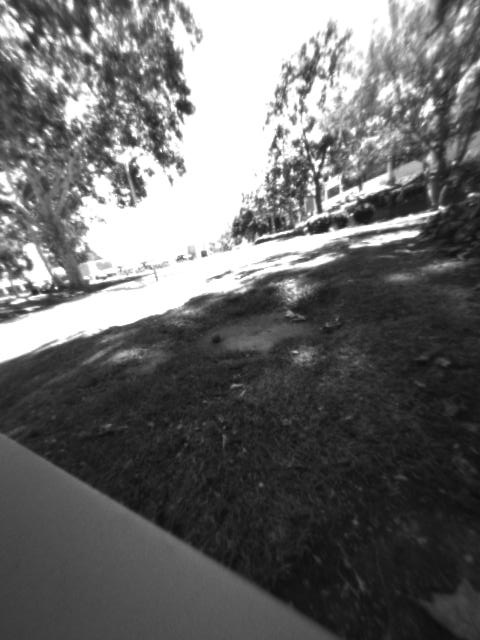dogtoy: (203, 329, 230, 351)
